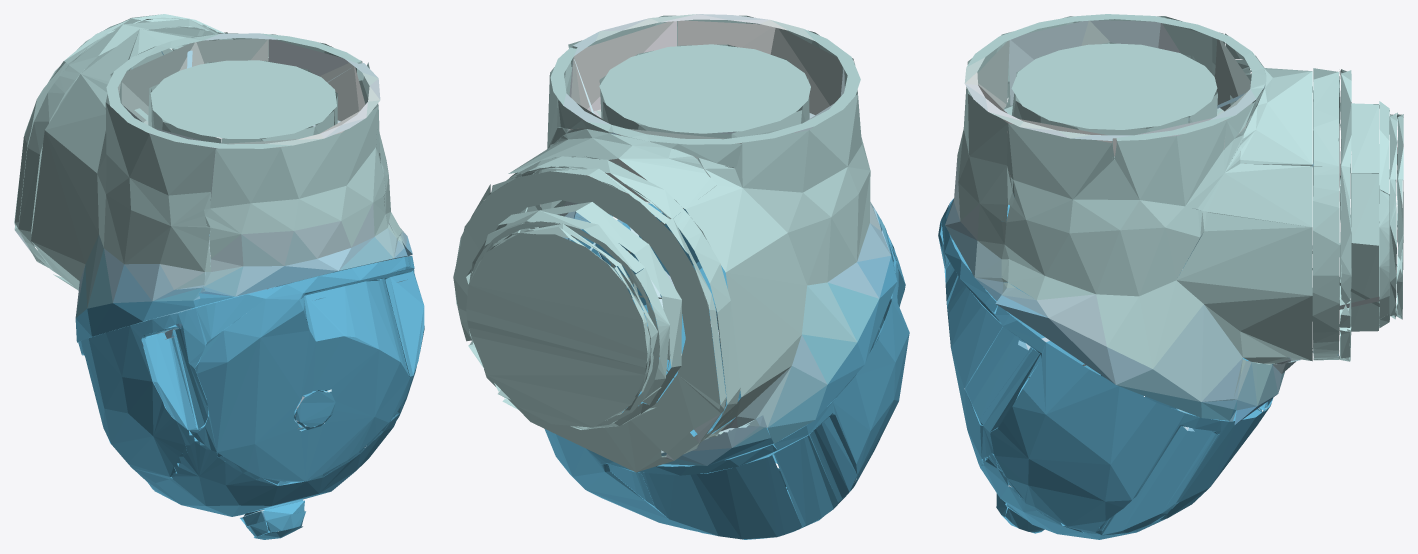
The model's file is MotomanHC10DTPLink5.dae.
The picture shows the model from 3 angles, left to right: view 1: azimuth 30°, elevation 25°; view 2: azimuth 150°, elevation 25°; view 3: azimuth 270°, elevation 25°; orthographic projection. The views are drawn at different scales.
Parts seen in each view (by area): view 1: MotomanHC10DTPLink5; view 2: MotomanHC10DTPLink5; view 3: MotomanHC10DTPLink5.
Part boxes in pixels (x1,y1,x2,y2): MotomanHC10DTPLink5: (14,14,424,539); MotomanHC10DTPLink5: (453,14,909,539); MotomanHC10DTPLink5: (938,14,1403,539).
Size of the model in its own units: 0.1511 by 0.1888 by 0.2039.
